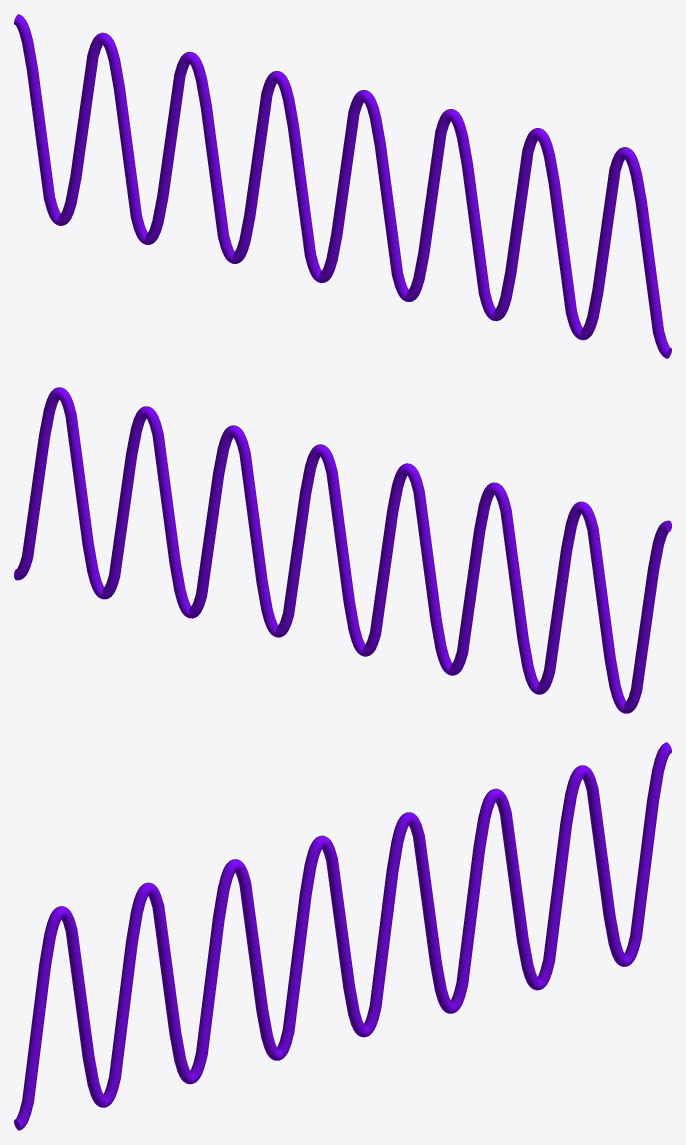
Rendered from waveblue.glb.
3 renders of one model, top to bottom at view 1: azimuth 30°, elevation 25°; view 2: azimuth 210°, elevation 25°; view 3: azimuth 270°, elevation 25°, orthographic. The views are drawn at different scales.
Visible parts, largest first — view 1: Sweep-Mat.12; view 2: Sweep-Mat.12; view 3: Sweep-Mat.12.
Part boxes in pixels (x1,y1,x2,y2): Sweep-Mat.12: [14, 14, 671, 358]; Sweep-Mat.12: [14, 387, 671, 713]; Sweep-Mat.12: [14, 742, 671, 1130].
Size of the model in its own units: 3.69 by 2.03 by 5.69.
